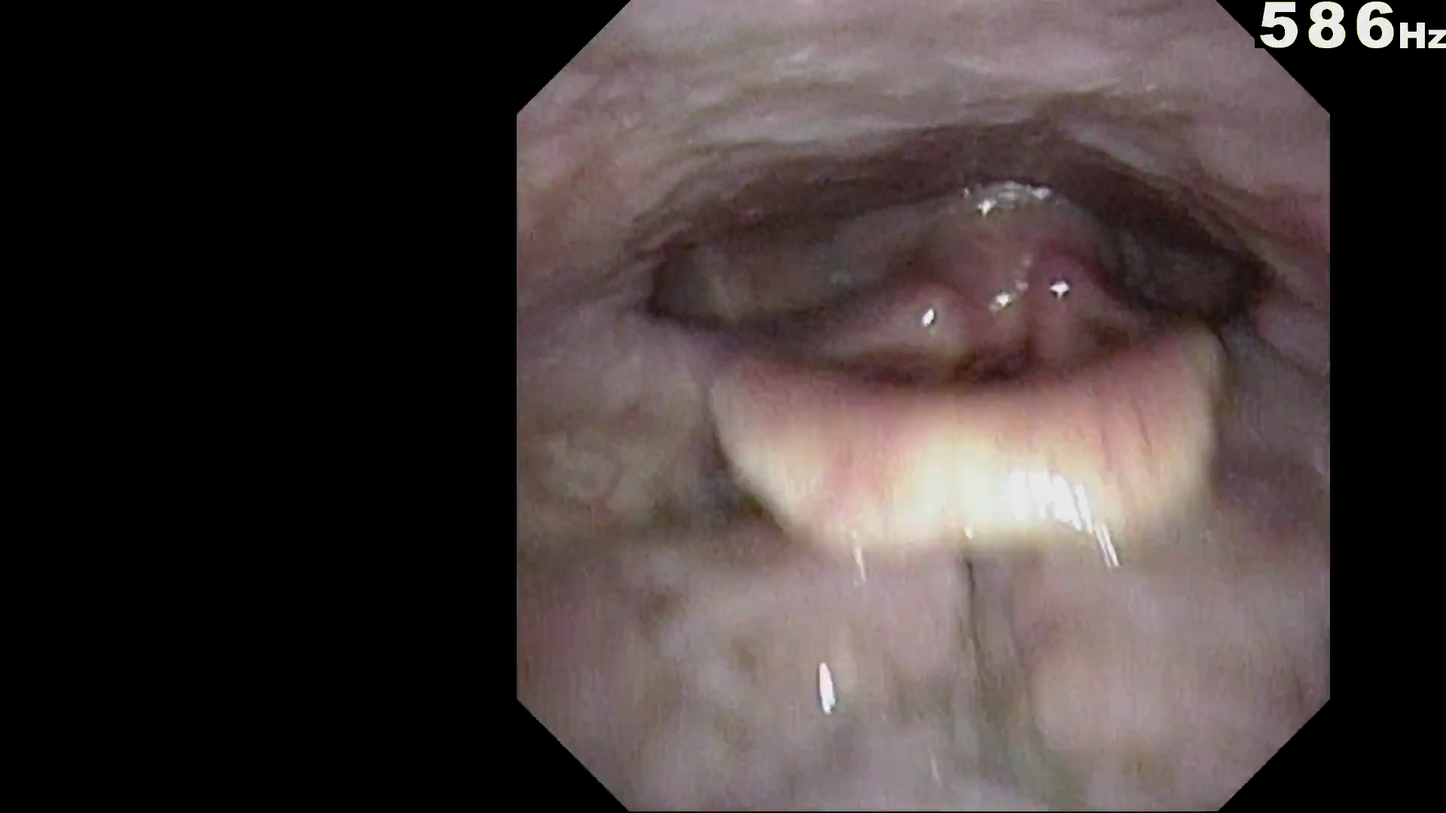epiglottis: (683, 346, 1271, 542)
